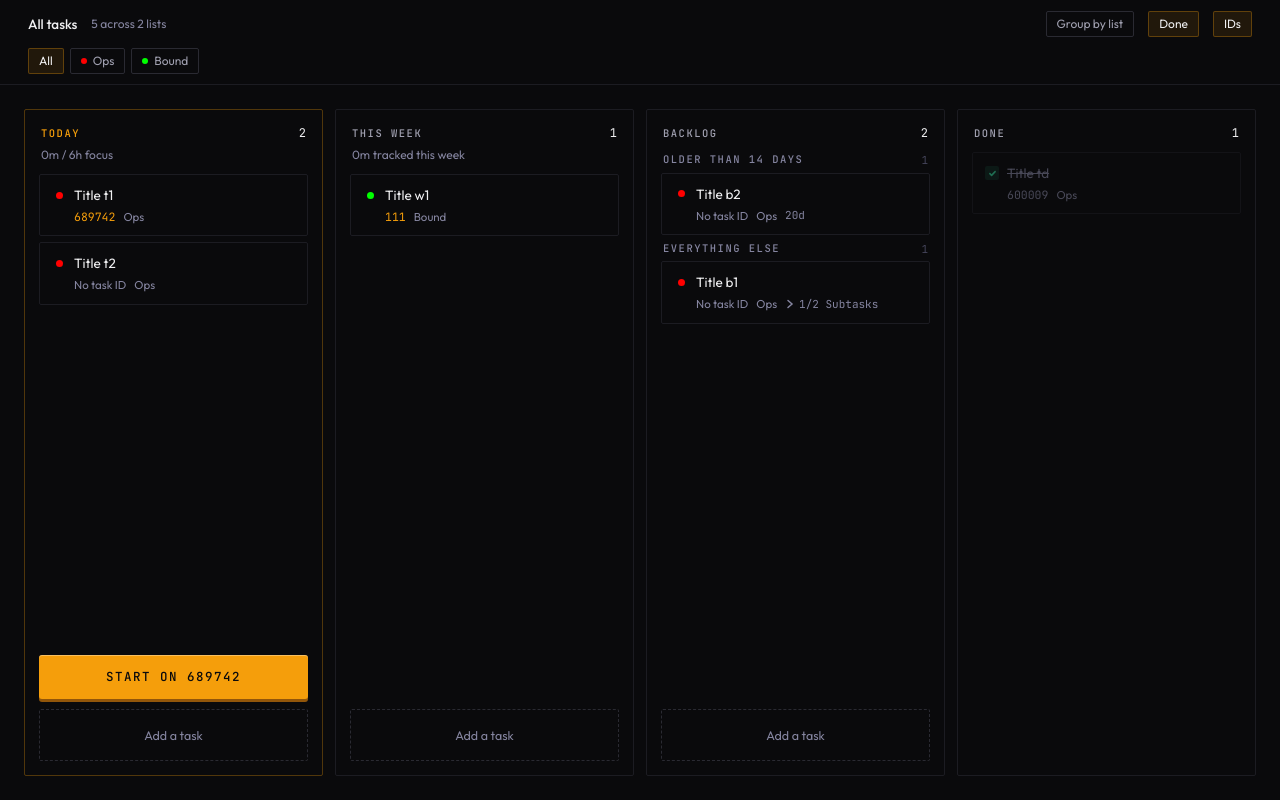
Test: PlanBoard — all scope › subtasks badge opens the checklist; ticking a subtask writes the subtasks JSON
This screenshot has width=1280, height=800.
What coordinates should you click on to do the following:
click the button "1/2 Subtasks"
I would click on:
 (832, 304)
Its box is [785,296,878,312].
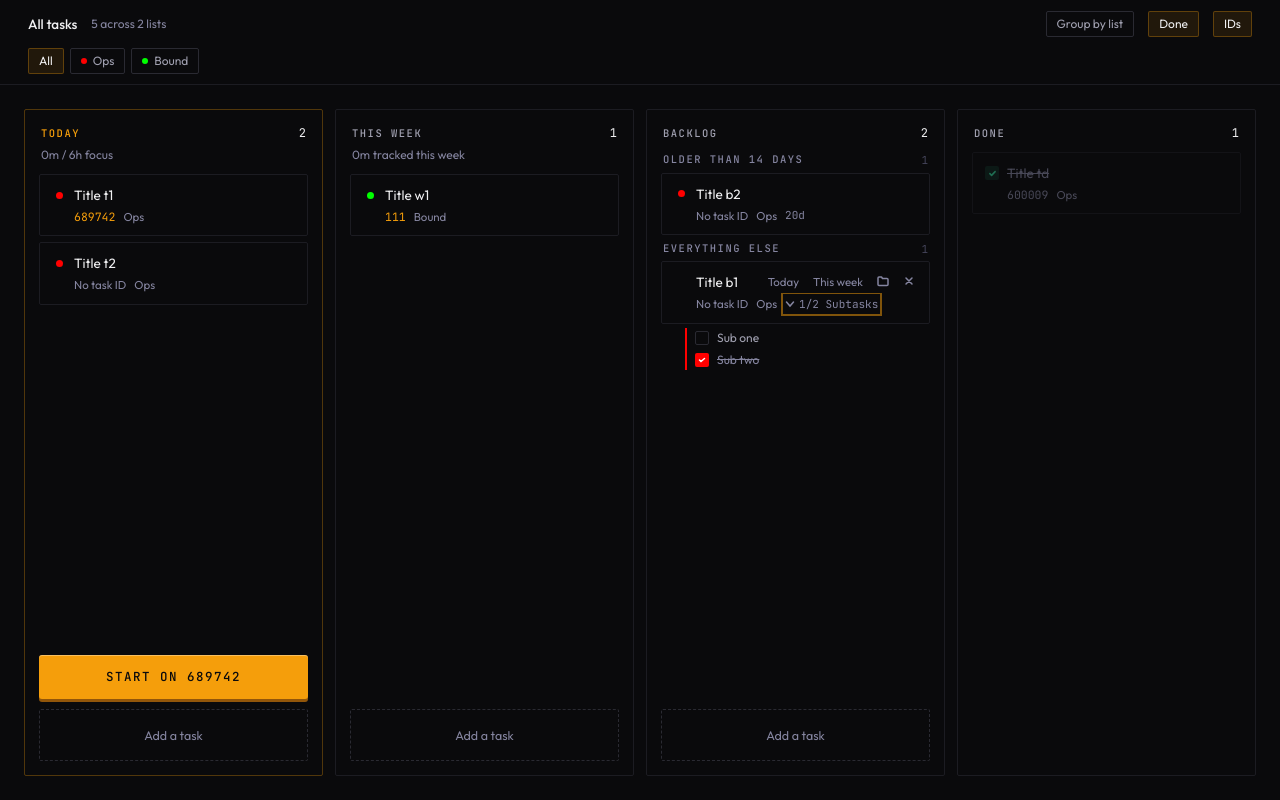
Now the element with test id "plan-card-checklist" is shown, box [685,328,930,370]
Now the text "Sub one" is shown, box [717,330,759,346]
What coordinates should you click on to do the following:
click the button named "Mark subtask done: Sub one"
I would click on:
 (702, 338)
Its box is [695,330,709,344].
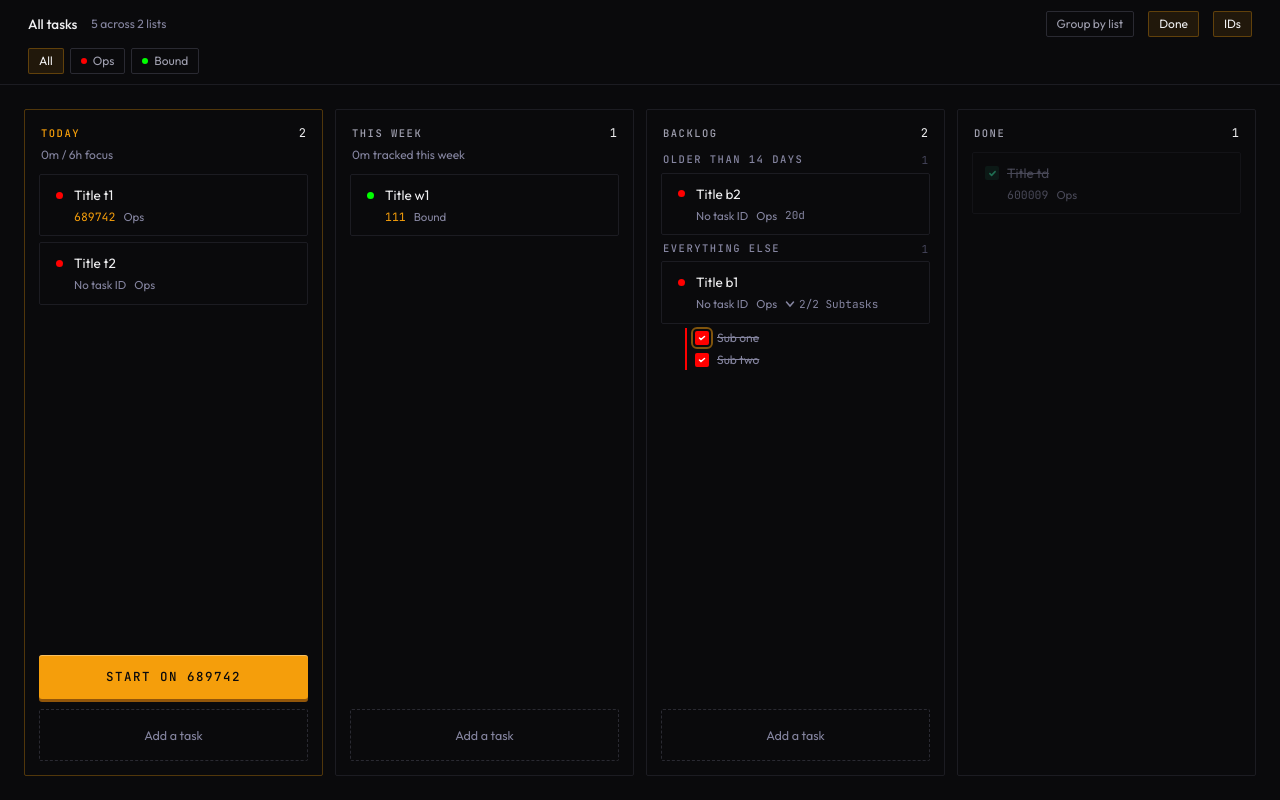
What coordinates should you click on to do the following:
click the button "2/2 Subtasks"
I would click on:
 (832, 304)
Its box is [785,296,878,312].
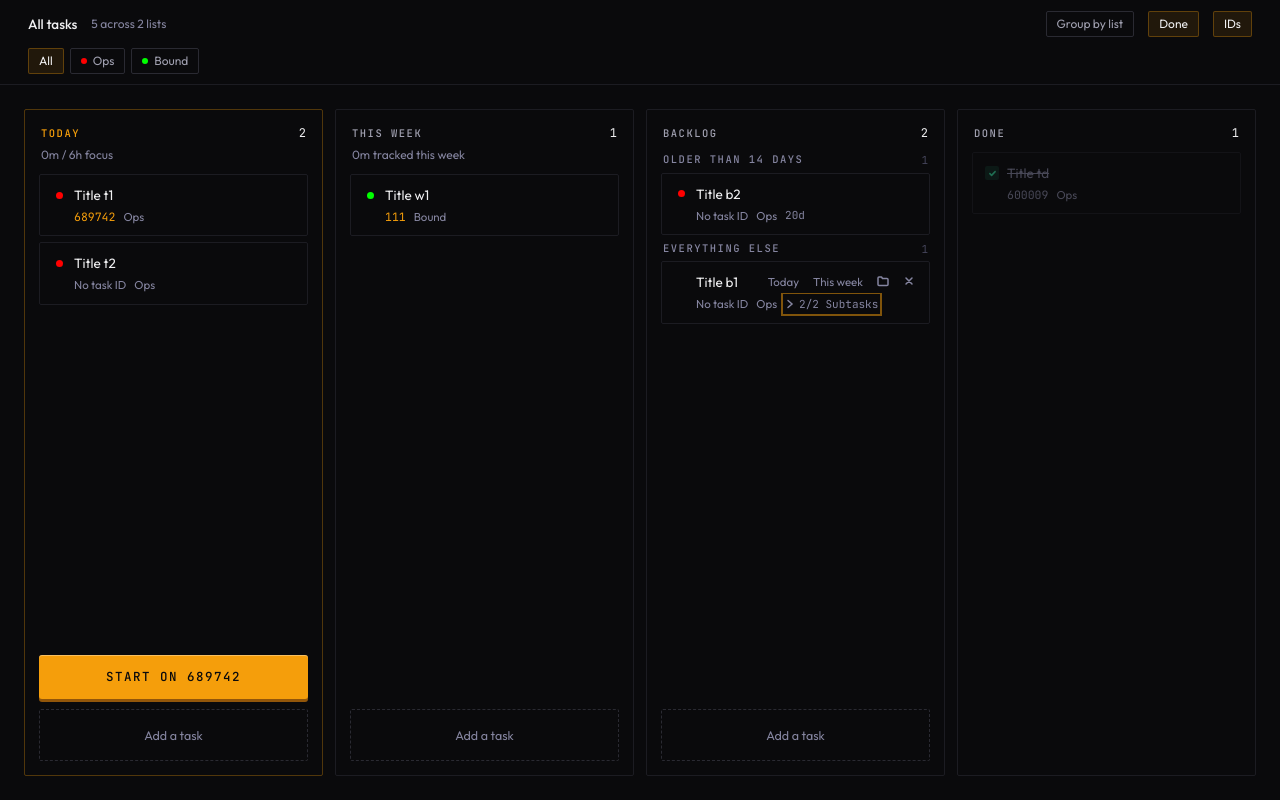
Now the element with test id "plan-card-checklist" is gone
